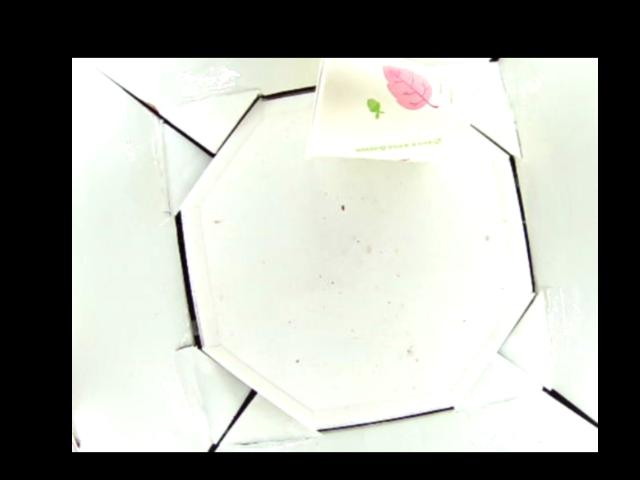Cup: (306, 58, 473, 162)
